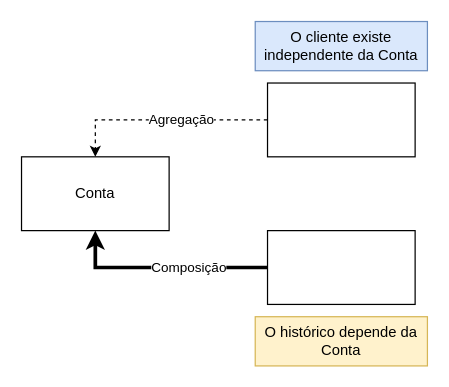
Image size: 449x387. Some labels were removed from this diagram. The centre of each missing label's shape, as x and y in pixels:
"Cliente" belongs at (x=340, y=119).
"Histórico" belongs at (x=340, y=266).
